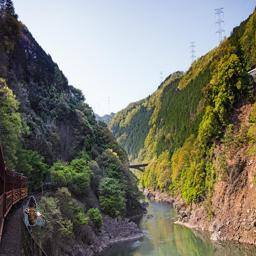Swallow: (23, 196, 45, 226)
